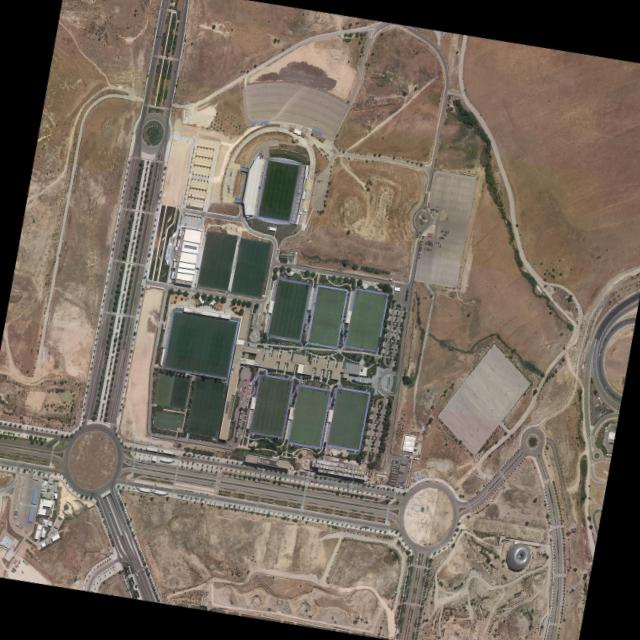large-vehicle: (157, 193, 160, 199), (12, 567, 16, 571), (0, 463, 5, 466), (135, 572, 138, 576), (11, 569, 14, 572), (39, 470, 43, 472), (378, 385, 380, 389), (415, 557, 417, 561), (18, 560, 20, 562), (248, 390, 250, 392), (247, 393, 249, 395), (24, 468, 28, 469), (247, 392, 250, 393), (435, 481, 438, 482), (243, 390, 245, 391), (243, 391, 245, 392), (242, 395, 244, 396)
small-vehicle: (14, 565, 17, 568), (603, 338, 606, 341), (111, 397, 113, 401), (441, 233, 443, 236), (439, 232, 441, 235), (441, 236, 443, 239), (440, 236, 442, 239), (435, 241, 437, 244), (238, 417, 241, 419), (243, 418, 246, 420), (442, 233, 444, 236), (440, 229, 442, 232), (421, 237, 424, 239), (418, 251, 421, 253), (445, 230, 447, 233), (444, 230, 446, 233), (423, 250, 425, 253), (135, 569, 137, 572), (26, 563, 28, 566), (128, 181, 130, 184), (16, 564, 18, 567), (108, 510, 110, 513), (246, 398, 249, 400), (181, 494, 183, 497), (260, 324, 263, 326), (394, 352, 397, 354), (187, 495, 189, 498), (429, 240, 431, 243), (426, 239, 428, 242), (425, 239, 427, 242), (605, 386, 607, 389), (601, 345, 603, 348), (410, 487, 412, 490), (383, 413, 386, 415), (383, 487, 385, 490), (442, 237, 444, 239), (439, 242, 441, 244), (238, 421, 240, 423), (244, 413, 246, 415), (244, 414, 246, 416), (244, 415, 246, 417), (243, 419, 245, 421), (243, 420, 245, 422), (420, 242, 422, 244), (420, 243, 422, 245), (419, 247, 421, 249), (419, 248, 421, 250), (418, 253, 420, 255), (429, 208, 431, 210), (441, 230, 443, 232), (242, 424, 244, 426), (25, 562, 27, 564), (238, 423, 240, 425), (24, 561, 26, 563), (22, 560, 24, 562), (18, 562, 20, 564), (17, 563, 19, 565), (6, 573, 8, 575), (127, 534, 129, 536), (177, 488, 179, 490), (241, 430, 243, 432), (249, 384, 251, 386), (248, 388, 250, 390), (179, 494, 181, 496), (189, 490, 191, 492), (0, 546, 2, 548), (206, 493, 208, 495), (436, 206, 438, 208), (399, 327, 401, 329), (385, 335, 387, 337), (388, 344, 390, 346), (391, 346, 393, 348), (191, 496, 193, 498), (195, 497, 197, 499), (428, 240, 430, 242), (381, 493, 383, 495), (352, 488, 354, 490), (427, 240, 429, 242), (379, 487, 381, 489), (611, 329, 613, 331), (622, 322, 624, 324), (370, 415, 372, 417), (440, 244, 441, 247), (439, 236, 440, 239), (438, 241, 439, 244), (437, 241, 438, 244), (439, 244, 440, 247), (238, 419, 241, 420), (244, 411, 247, 412), (444, 233, 445, 236), (445, 233, 446, 236), (420, 240, 423, 241), (435, 208, 436, 211), (432, 208, 433, 211), (431, 208, 432, 211), (446, 217, 447, 220), (174, 70, 175, 73), (114, 384, 115, 387), (157, 31, 158, 34), (141, 485, 144, 486), (240, 433, 243, 434), (424, 247, 425, 250), (194, 496, 195, 499), (33, 470, 36, 471), (385, 332, 388, 333), (190, 495, 191, 498), (431, 243, 432, 246), (430, 243, 431, 246), (427, 242, 428, 245), (426, 242, 427, 245), (430, 248, 431, 251), (428, 248, 429, 251), (599, 353, 600, 356), (370, 413, 373, 414), (438, 244, 439, 246), (239, 416, 241, 417), (242, 423, 244, 424), (244, 412, 246, 413), (244, 417, 246, 418), (420, 241, 422, 242), (419, 246, 421, 247), (419, 250, 421, 251), (418, 257, 420, 258), (429, 205, 430, 207), (433, 209, 434, 211), (447, 231, 448, 233), (443, 230, 444, 232), (243, 422, 245, 423), (147, 200, 148, 202), (147, 208, 148, 210), (136, 165, 137, 167), (164, 7, 165, 9), (236, 430, 238, 431), (245, 402, 247, 403), (246, 401, 248, 402), (247, 396, 249, 397), (182, 454, 183, 456), (185, 461, 187, 462), (180, 460, 182, 461), (148, 451, 150, 452), (178, 494, 179, 496), (177, 494, 178, 496), (422, 236, 424, 237), (261, 321, 263, 322), (196, 492, 198, 493), (193, 491, 195, 492), (191, 491, 193, 492), (187, 490, 189, 491), (184, 490, 186, 491), (185, 495, 186, 497), (183, 495, 184, 497), (180, 495, 182, 496), (251, 325, 253, 326), (261, 323, 263, 324), (199, 492, 201, 493), (201, 493, 203, 494), (204, 493, 206, 494), (445, 68, 446, 70), (383, 346, 385, 347), (395, 350, 397, 351), (395, 348, 397, 349), (399, 329, 401, 330), (388, 347, 390, 348), (387, 350, 389, 351), (186, 495, 187, 497), (193, 497, 194, 499), (197, 497, 198, 499), (202, 498, 203, 500), (425, 248, 426, 250), (375, 492, 376, 494), (372, 492, 374, 493), (370, 491, 371, 493), (357, 489, 359, 490), (431, 241, 432, 243), (430, 241, 431, 243), (429, 243, 430, 245), (428, 243, 429, 245), (425, 242, 426, 244), (427, 248, 428, 250), (384, 494, 386, 495), (378, 487, 379, 489), (381, 487, 382, 489), (368, 425, 370, 426), (375, 416, 377, 417), (371, 410, 373, 411), (402, 451, 403, 453), (389, 488, 390, 490), (386, 488, 387, 490), (385, 488, 386, 490), (382, 487, 383, 489), (6, 574, 7, 576), (23, 561, 24, 562), (182, 489, 183, 490), (180, 489, 181, 490), (198, 498, 199, 499), (201, 498, 202, 499), (379, 493, 380, 494), (360, 490, 361, 491), (428, 480, 429, 481), (426, 480, 427, 481)
